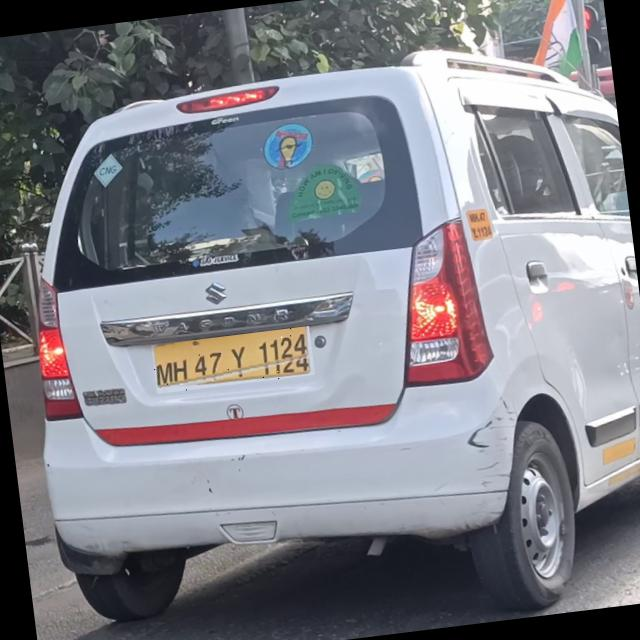Plate: (152, 327, 316, 395)
